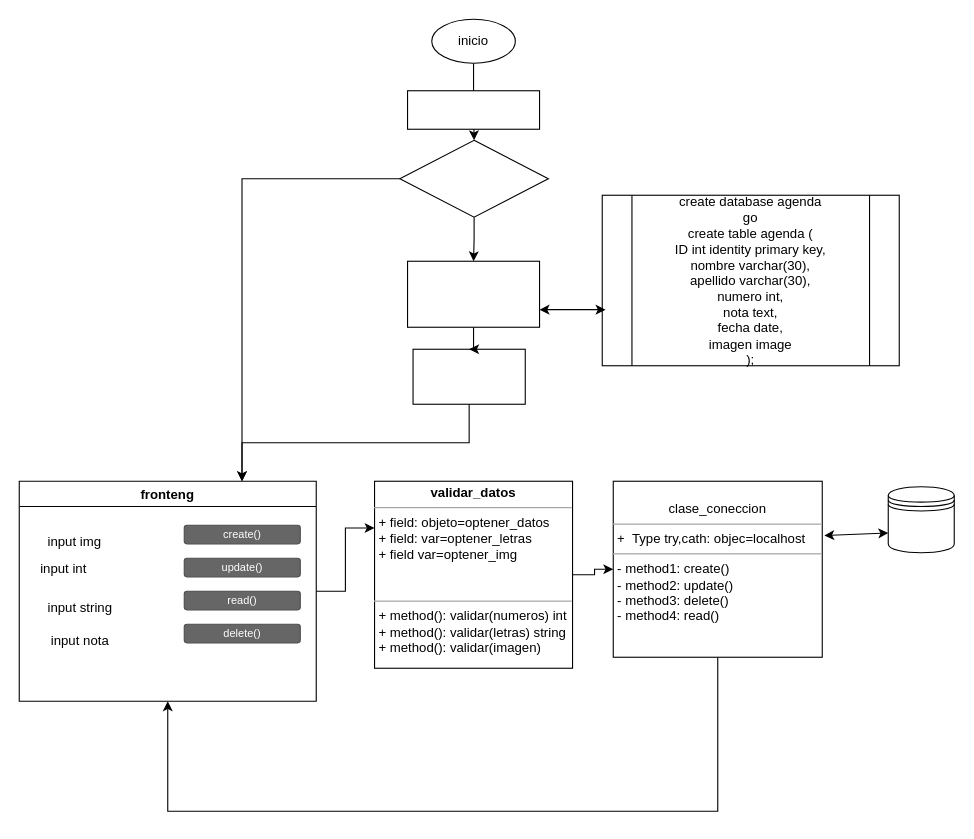
This 974x839 diagram has some shape labels left out. Here are the shapes that lost their labels. From the top down, the centre of each, then its label:
the point at 473,109: bool=leer si existe db
the point at 473,178: si bool=true
the point at 473,293: crear DB con instrucicones guardas
the point at 468,376: Objec=localhost
